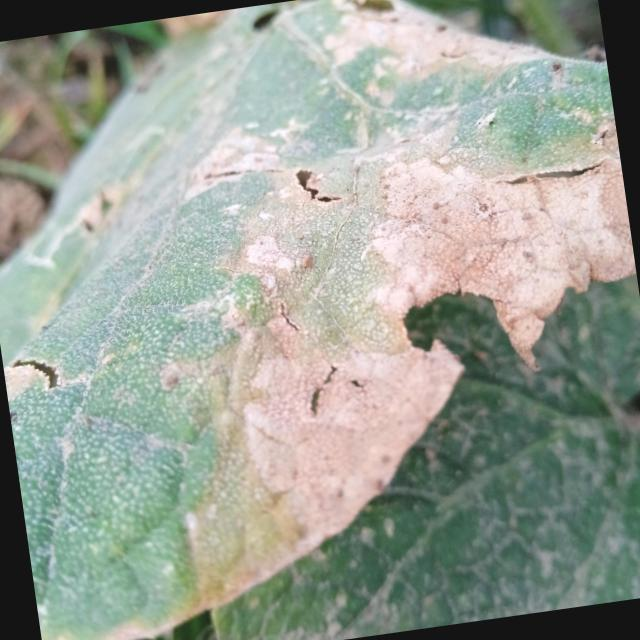cucumber_anthracnose: (0, 0, 633, 517)
